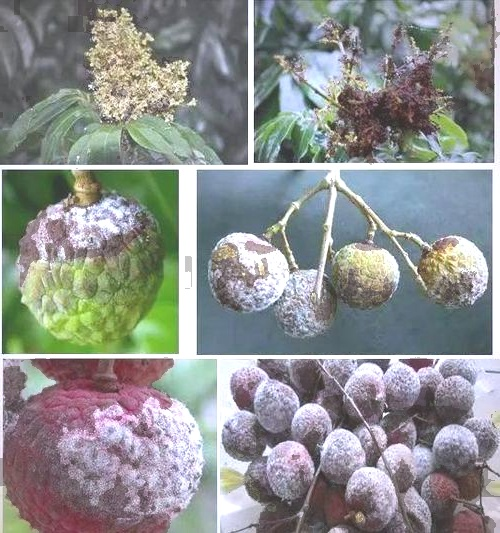Frost_Blight: (230, 360, 414, 461), (52, 409, 197, 516), (244, 454, 453, 524), (27, 185, 135, 271), (417, 364, 490, 476), (350, 55, 440, 143), (87, 66, 150, 124), (220, 260, 277, 314), (347, 474, 398, 526), (274, 281, 315, 340), (445, 254, 486, 308), (273, 448, 306, 506), (321, 426, 363, 469)
